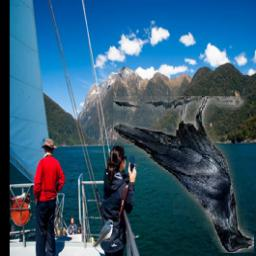Crow: (113, 97, 254, 254)
Swallow: (94, 221, 114, 248)
